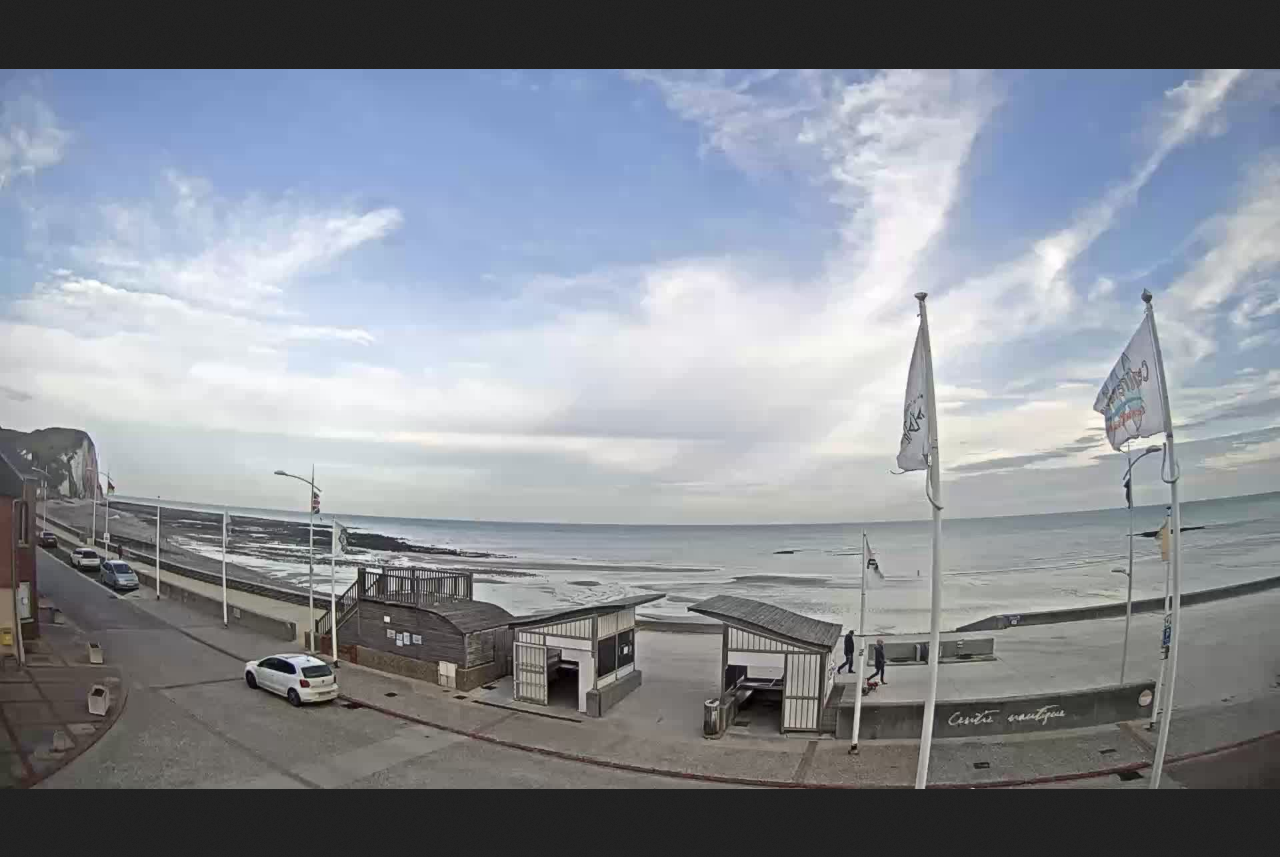maybe: (1095, 285, 1174, 458)
no: (882, 296, 952, 497)
